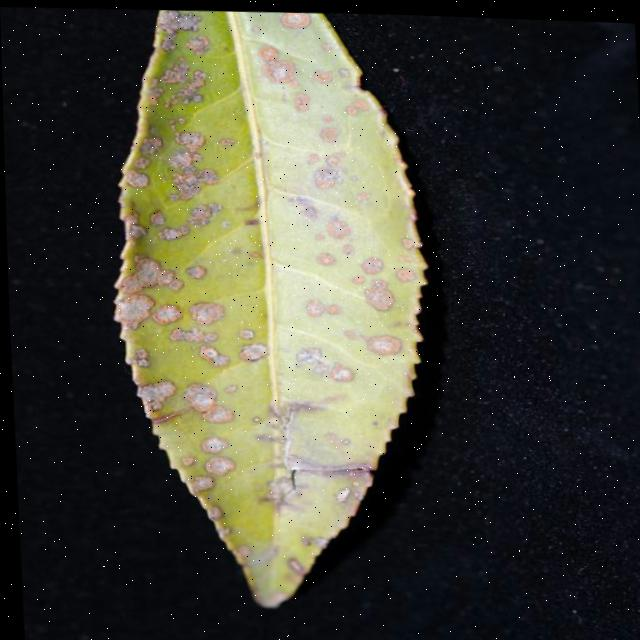Tea red rust: (104, 21, 436, 594)
